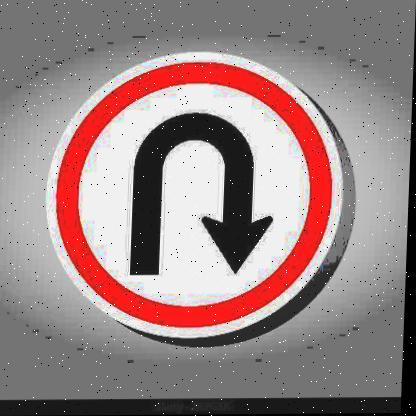U-turn: (39, 48, 363, 346)
